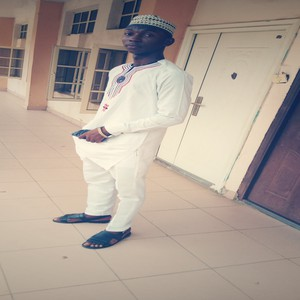Fulokoja_male_student: (75, 18, 168, 257)
